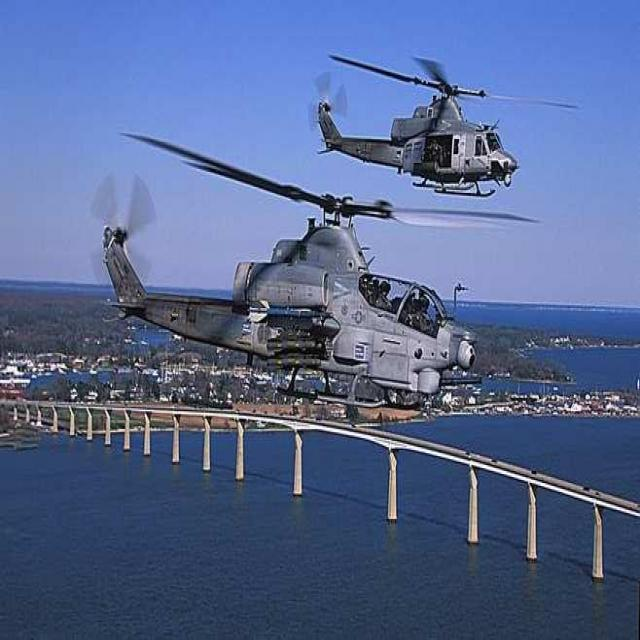MIL_HELO: (84, 128, 542, 424), (302, 43, 583, 207)
